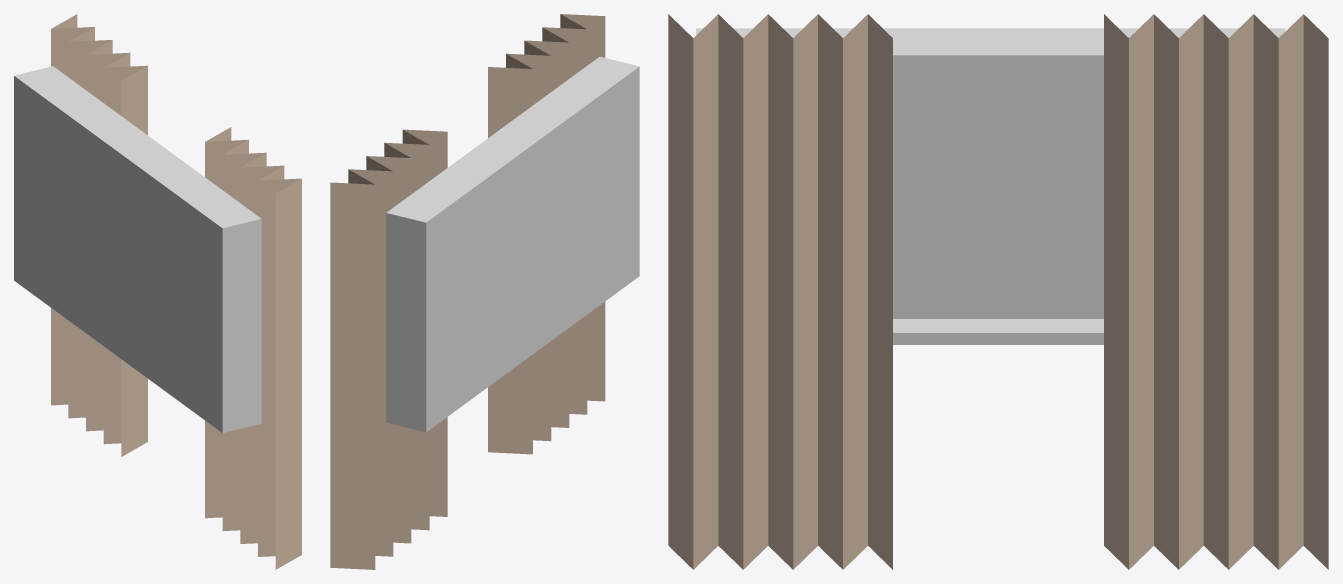
Rendered from window.glb.
3 renders of one model, left to right at view 1: azimuth 30°, elevation 25°; view 2: azimuth 150°, elevation 25°; view 3: azimuth 270°, elevation 25°, orthographic. The views are drawn at different scales.
Visible parts, largest first — view 1: window, curtain, curtain.001; view 2: window, curtain.001, curtain; view 3: curtain, curtain.001, window.
Part boxes in pixels (bbox=[...]): window: bbox=[14, 66, 261, 433]; curtain: bbox=[205, 127, 301, 569]; curtain.001: bbox=[51, 14, 147, 456]; window: bbox=[386, 56, 639, 432]; curtain.001: bbox=[330, 129, 447, 569]; curtain: bbox=[488, 14, 605, 454]; curtain: bbox=[668, 14, 892, 569]; curtain.001: bbox=[1104, 14, 1328, 569]; window: bbox=[696, 28, 1285, 344].
Size of the model in its own units: 0.4364 by 2 by 2.25.
